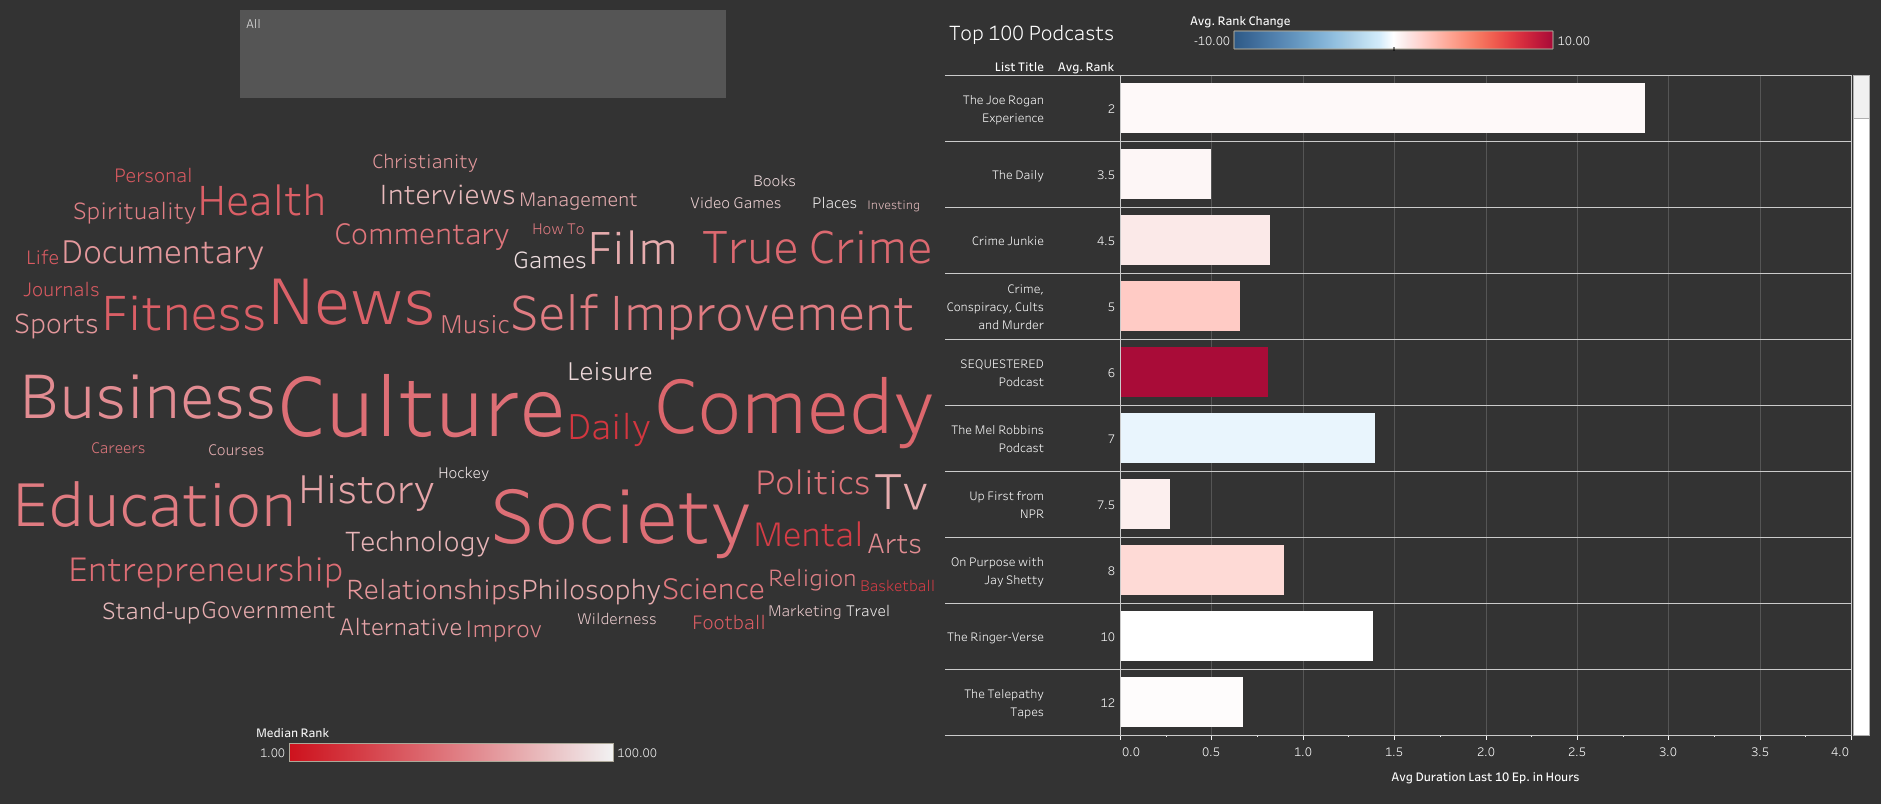

Layout of this report page (visuals, bound fields, positions):
{"tool":"tableau","page":{"name":"Dashboard 1","canvas":[650,860],"ordinal":0},"visuals":[{"type":"worksheet","title":"Top 100 Podcasts","mark":"Bar","rows":["list_title","rank"],"cols":["Calculation_39969448515350528"],"box":[8,8,634,544.9]},{"type":"filter","title":"Top 100 Podcasts","param":"[federated.000qnx41tmds4412cf0vc17rcf0f].[Platform Set]","box":[472,13,168,93.3]},{"type":"legend","title":"Top 100 Podcasts","param":"[federated.000qnx41tmds4412cf0vc17rcf0f].[avg:rank_change:qk]","box":[266,15.1,140,76.3]},{"type":"legend","title":"Categories","param":"[federated.000qnx41tmds4412cf0vc17rcf0f].[med:rank:qk]","box":[8,535.9,140,99.3]},{"type":"worksheet","title":"Categories","mark":"Text","box":[8,552.9,634,299]}]}

Visuals, with their boxes on the page's 650x860 design canvas (x1, y1, x2, y2). These are canvas units, not pixel positions in the 1881x804 screenshot, which may show the page scaled, cropped or inside an application window:
"Top 100 Podcasts" worksheet (Bar marks): (8, 8, 642, 553)
"Top 100 Podcasts" filter: (472, 13, 640, 106)
"Top 100 Podcasts" legend: (266, 15, 406, 91)
"Categories" legend: (8, 536, 148, 635)
"Categories" worksheet (Text marks): (8, 553, 642, 852)
